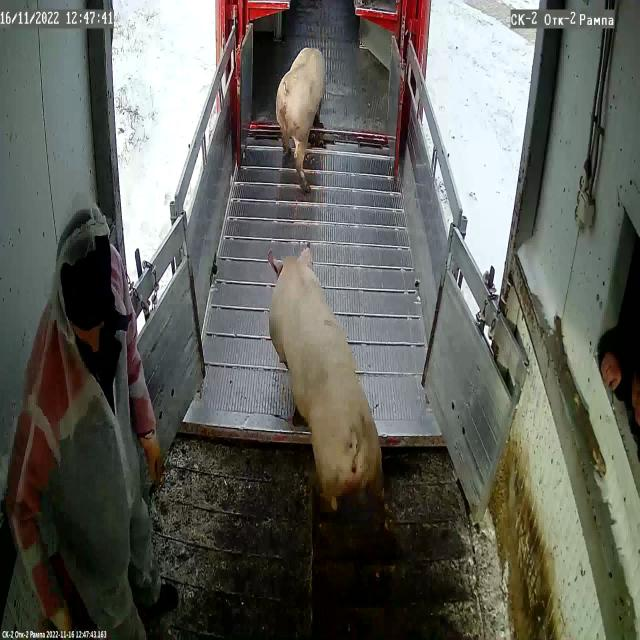pig: (268, 247, 384, 514), (275, 48, 326, 183)
